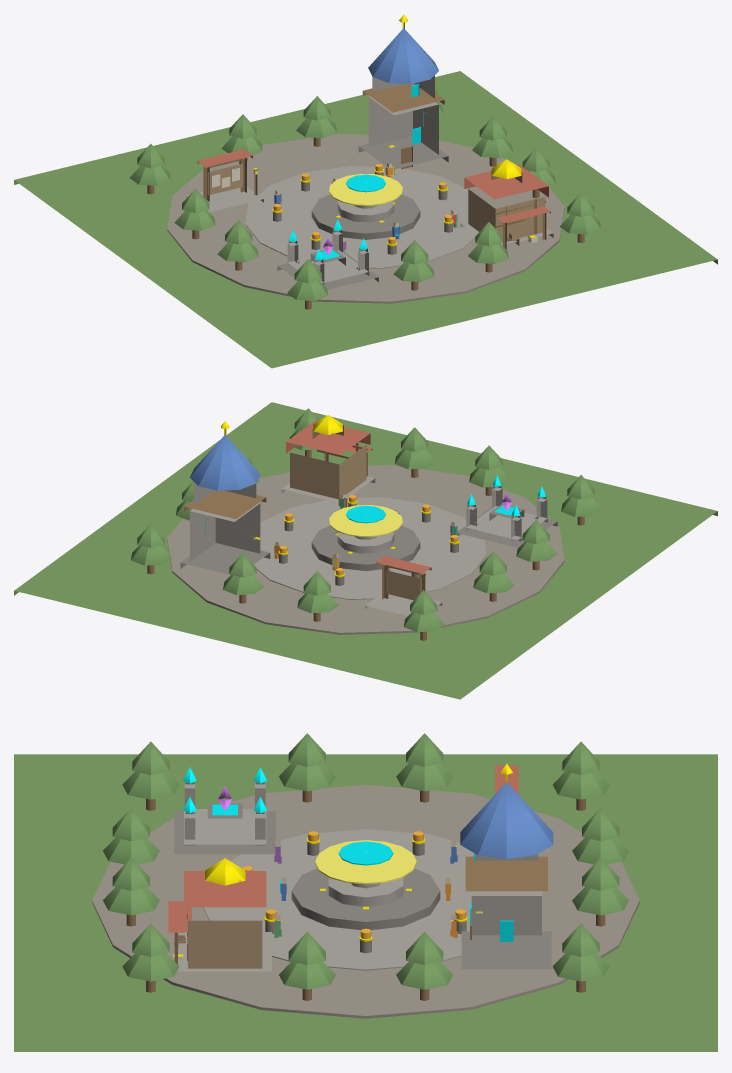
The model's file is osrs_guild.glb.
3 renders of one model, top to bottom at view 1: azimuth 30°, elevation 25°; view 2: azimuth 150°, elevation 25°; view 3: azimuth 270°, elevation 25°, orthographic. The views are drawn at different scales.
Parts seen in each view (by area): view 1: OSRS_GrandExchangeTown; view 2: OSRS_GrandExchangeTown; view 3: OSRS_GrandExchangeTown.
Boxes of the visible parts, x1,y1,x2,y2 form: OSRS_GrandExchangeTown: [14, 14, 717, 368]; OSRS_GrandExchangeTown: [14, 402, 717, 699]; OSRS_GrandExchangeTown: [14, 733, 717, 1051].
Bounding box in the file's own units: 36 × 11.65 × 36.
